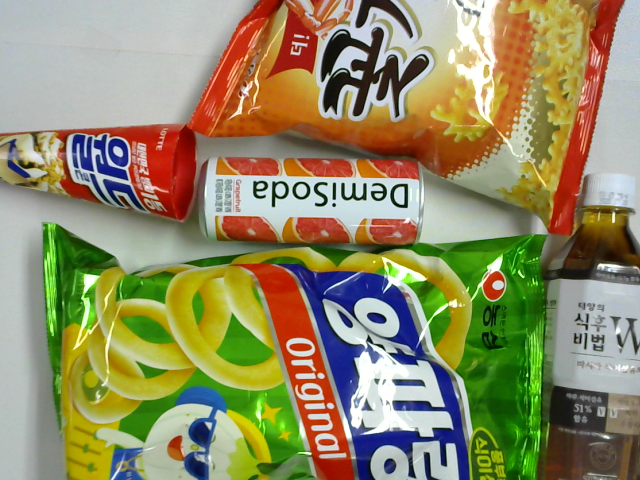Crabrang: (192, 1, 627, 234)
Demisoda_Grapefruit_Can_250ml: (199, 158, 425, 249)
Oninon_Ring: (40, 222, 555, 480)
Post-meal_recipe_W_tea_500ml: (545, 175, 638, 480)
World_Cone_Banila: (1, 121, 197, 222)
